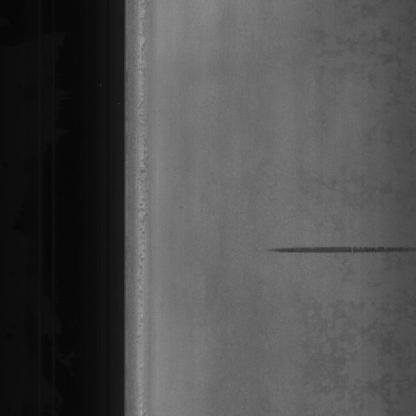crease: (254, 222, 407, 277)
